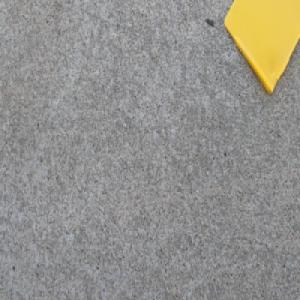PlasticPart: (223, 0, 300, 95)
